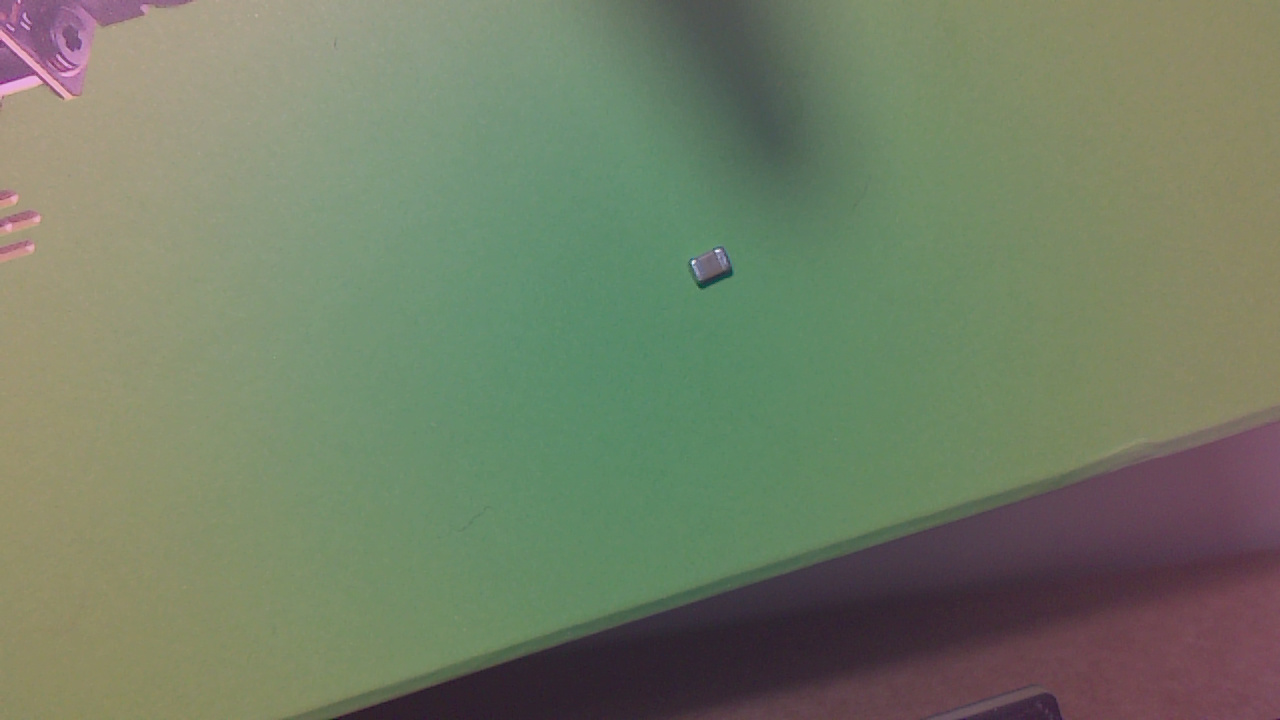Condensator: (691, 250, 740, 293)
